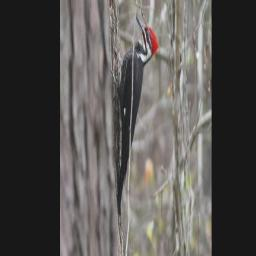Woodpecker: (110, 14, 161, 225)
